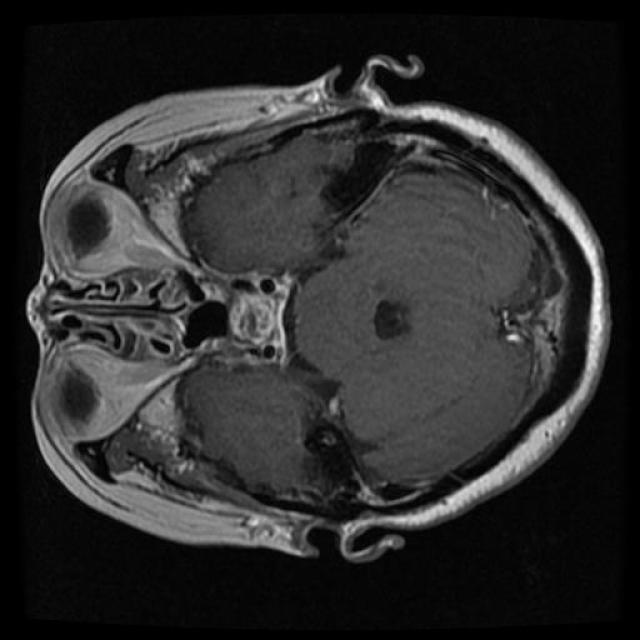Pituitary: (224, 272, 296, 366)
